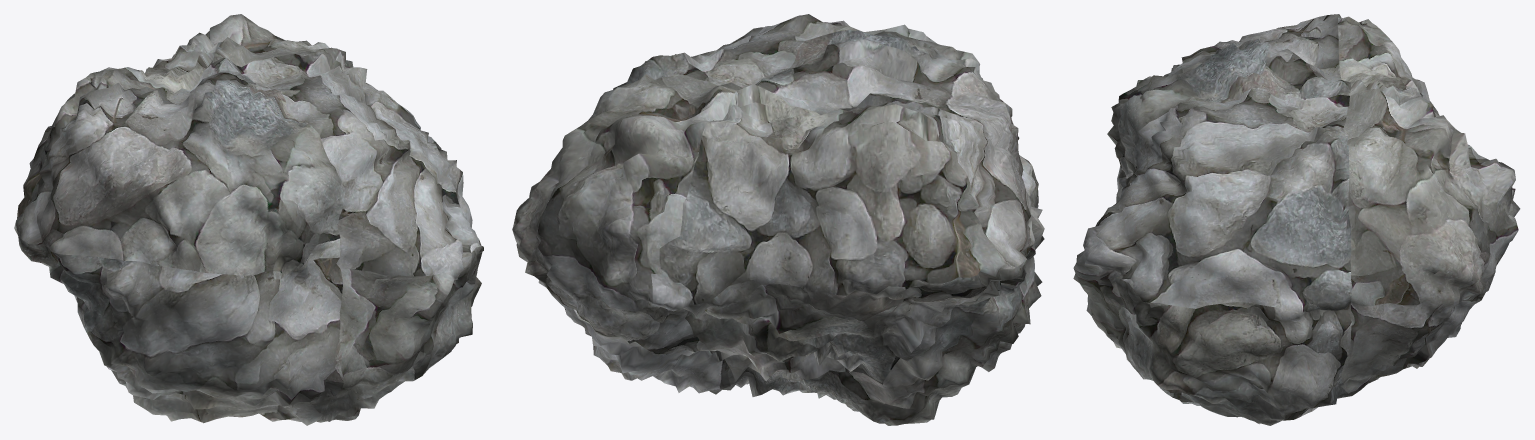
File: Boulder_new.fbx
The picture shows the model from 3 angles, left to right: view 1: azimuth 30°, elevation 25°; view 2: azimuth 150°, elevation 25°; view 3: azimuth 270°, elevation 25°; orthographic projection. The views are drawn at different scales.
Visible parts, largest first — view 1: boulder.001; view 2: boulder.001; view 3: boulder.001.
Part boxes in pixels (x1,y1,x2,y2): boulder.001: (14,14,483,425); boulder.001: (512,14,1044,425); boulder.001: (1073,14,1520,425).
Size of the model in its own units: 1129 by 872 by 1118.
